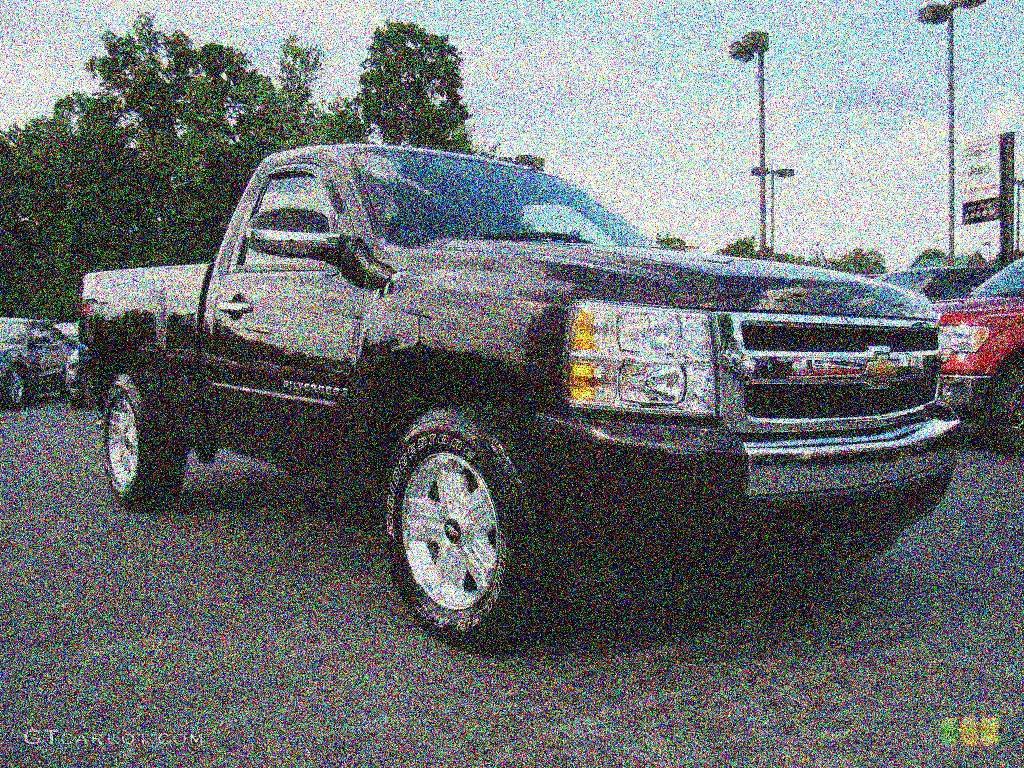car: (56, 115, 957, 669)
